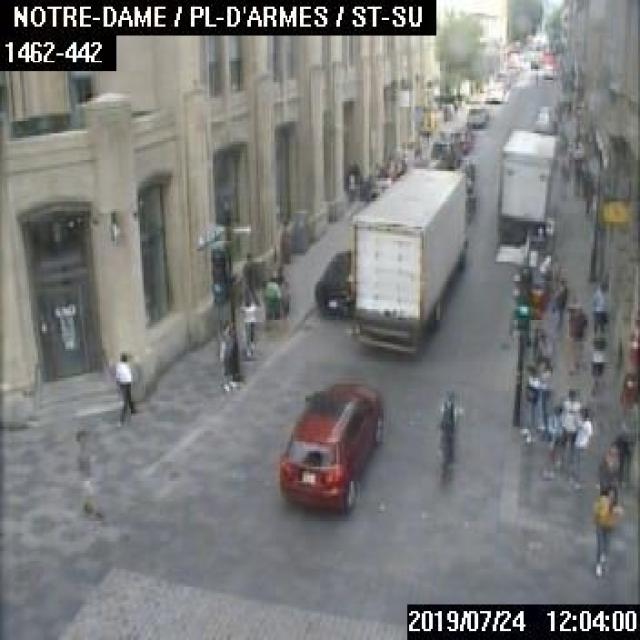cyclist: (433, 387, 456, 478)
pedestrian: (591, 491, 624, 573), (73, 431, 98, 515), (568, 406, 594, 480), (584, 326, 608, 404), (563, 297, 586, 375), (113, 351, 136, 427), (520, 360, 542, 439), (544, 405, 566, 475), (588, 276, 611, 342), (216, 316, 236, 391), (561, 386, 580, 449), (595, 443, 618, 493), (242, 252, 262, 306), (240, 292, 256, 358), (263, 273, 280, 326), (552, 275, 565, 328), (280, 276, 289, 318)
vehicle: (343, 164, 468, 356), (275, 376, 380, 516), (500, 126, 554, 247), (312, 248, 351, 314), (533, 103, 556, 133), (465, 103, 487, 127), (484, 79, 506, 101), (494, 68, 509, 85)
